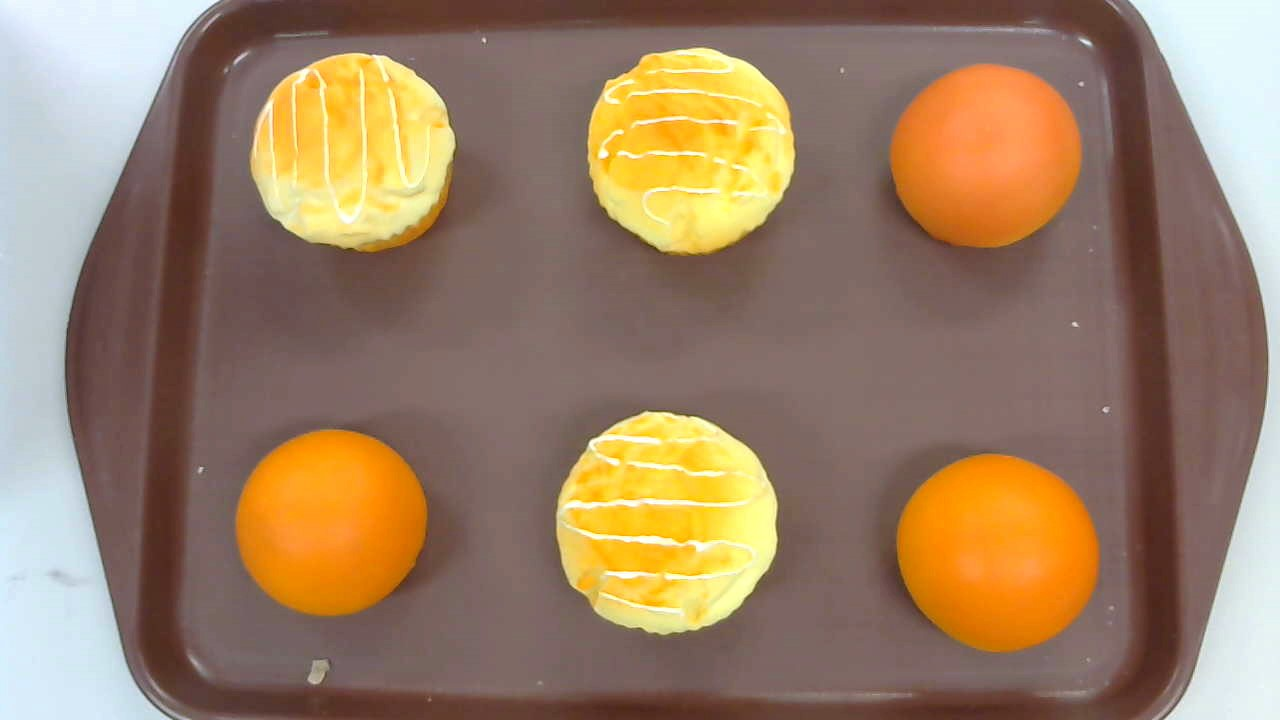bun: (897, 453, 1099, 653), (234, 428, 427, 616), (889, 63, 1082, 249)
cupcake: (556, 407, 779, 637), (587, 43, 796, 259), (250, 52, 455, 250)
